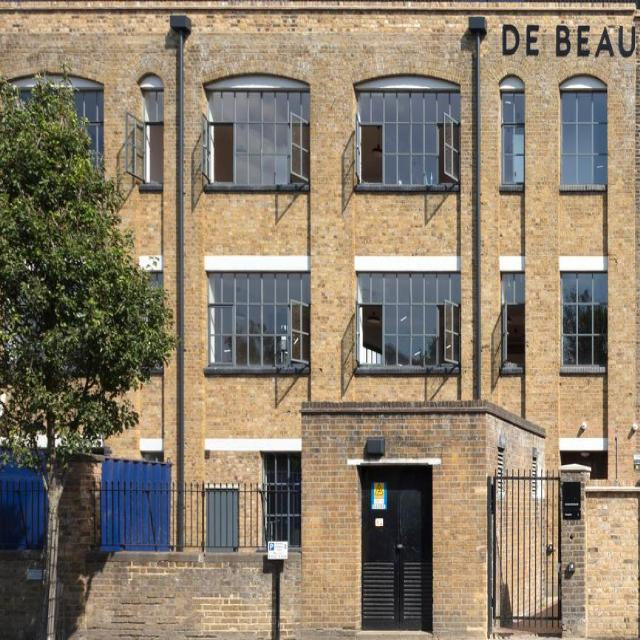door: (360, 463, 434, 632)
railing: (1, 483, 48, 549)
window: (203, 80, 310, 188), (357, 77, 462, 187), (356, 265, 461, 375), (203, 268, 309, 376), (561, 76, 607, 183), (559, 265, 605, 371), (141, 73, 164, 188), (500, 82, 523, 182), (499, 270, 522, 370)
